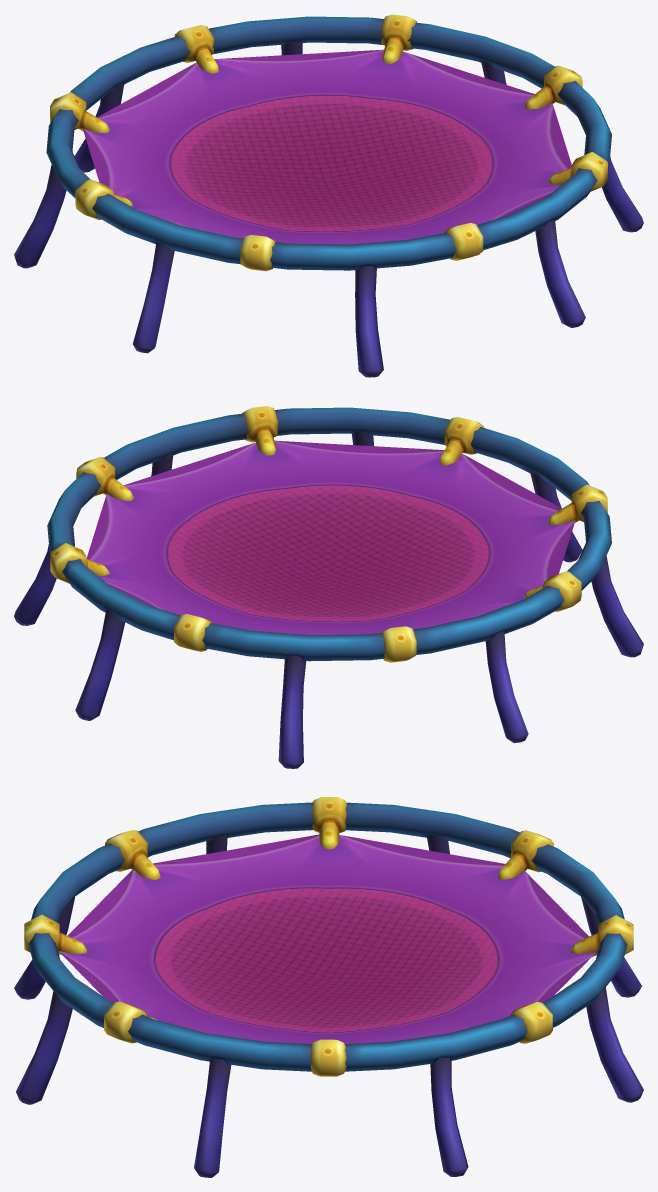
File: SE_Trampoline_01_SM.FBX
3 renders of one model, top to bottom at view 1: azimuth 30°, elevation 25°; view 2: azimuth 150°, elevation 25°; view 3: azimuth 270°, elevation 25°, orthographic. The views are drawn at different scales.
Visible parts, largest first — view 1: SE_Trampoline_01_SM_LOD0; view 2: SE_Trampoline_01_SM_LOD0; view 3: SE_Trampoline_01_SM_LOD0.
Boxes of the visible parts, box(x1,y1,x2,y2) form: SE_Trampoline_01_SM_LOD0: box(14, 14, 643, 377); SE_Trampoline_01_SM_LOD0: box(14, 406, 643, 768); SE_Trampoline_01_SM_LOD0: box(14, 797, 643, 1177).
Size of what is drawn, in the model's own units: 1076 by 1076 by 247.
